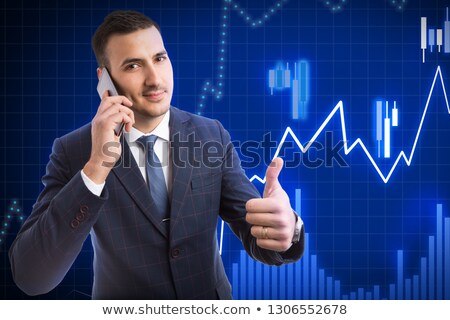phone: (88, 70, 133, 131)
talk: (82, 43, 174, 162)
